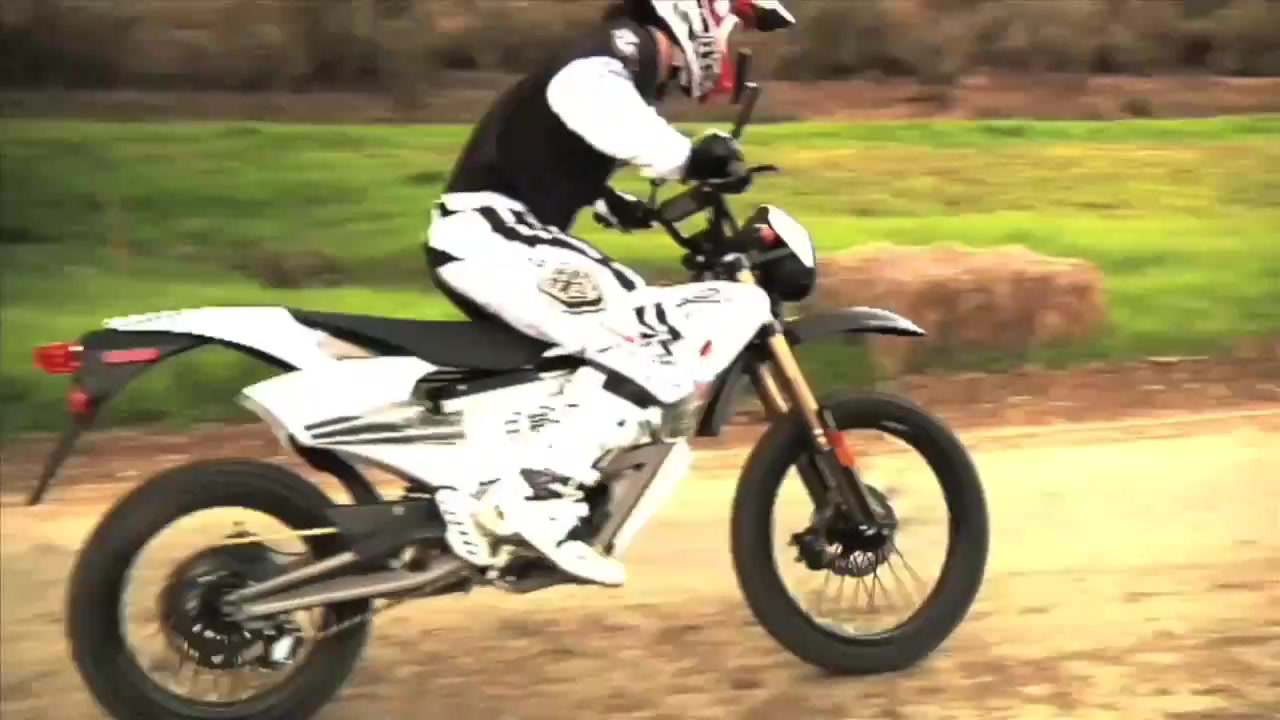motorbike: (29, 46, 995, 719)
